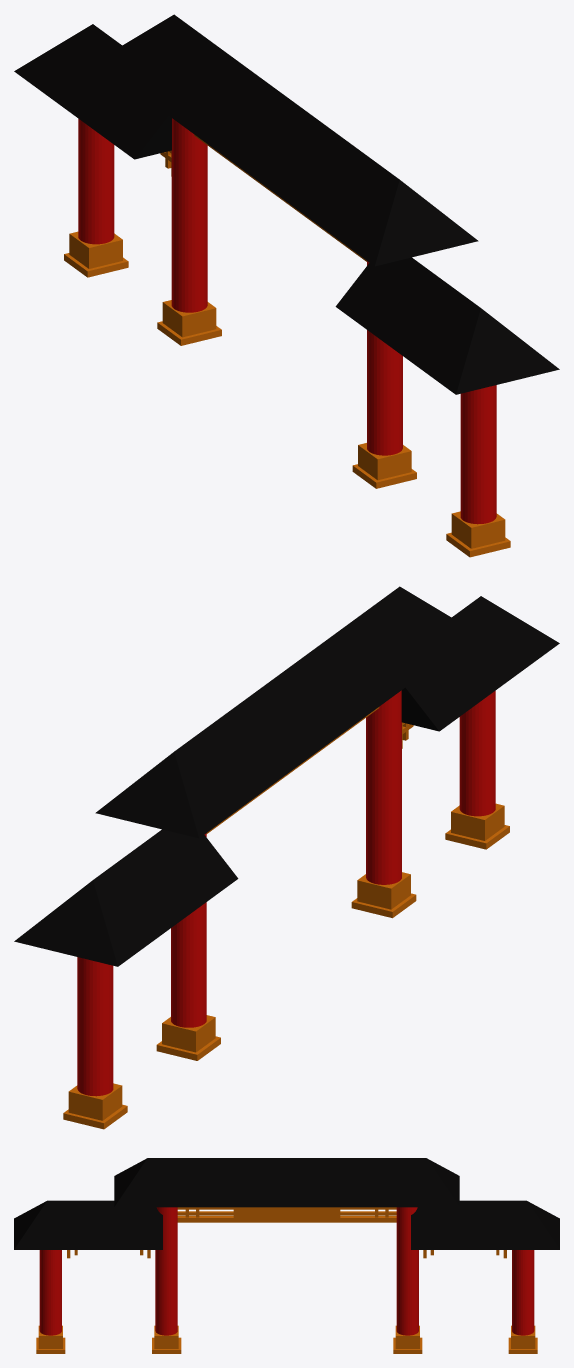
Rendered from temple_colored.obj.
The picture shows the model from 3 angles, top to bottom: view 1: azimuth 30°, elevation 25°; view 2: azimuth 150°, elevation 25°; view 3: azimuth 270°, elevation 25°; orthographic projection. The views are drawn at different scales.
Visible parts, largest first — view 1: Cube.015, Cube.026, Cube.027, Cylinder.004, Cylinder.002, Cylinder.003, Cylinder.005, Cube.002, Cube.016, Cube.037, Cube.040; view 2: Cube.015, Cube.027, Cube.026, Cylinder.005, Cylinder.003, Cylinder.002, Cylinder.004, Cube.037, Cube.002, Cube.016, Cube.040; view 3: Cube.015, Cube.026, Cube.027, Cylinder.004, Cylinder.005, Cylinder.003, Cylinder.002, Cube.014, Cube.004, Cube.006, Cube.040, Cube.002 (+3 smaller).
Boxes of the visible parts, bbox=[...] form: Cube.015: bbox=[95, 14, 478, 266]; Cube.026: bbox=[335, 257, 559, 394]; Cube.027: bbox=[14, 24, 171, 159]; Cylinder.004: bbox=[171, 118, 207, 312]; Cylinder.002: bbox=[460, 385, 496, 524]; Cylinder.003: bbox=[78, 119, 114, 244]; Cylinder.005: bbox=[367, 261, 402, 455]; Cube.002: bbox=[162, 300, 216, 337]; Cube.016: bbox=[451, 511, 505, 548]; Cube.037: bbox=[69, 231, 122, 268]; Cube.040: bbox=[358, 443, 411, 480]; Cube.015: bbox=[95, 586, 478, 838]; Cube.027: bbox=[14, 829, 238, 966]; Cube.026: bbox=[401, 596, 559, 731]; Cylinder.005: bbox=[366, 690, 401, 884]; Cylinder.003: bbox=[77, 957, 113, 1096]; Cylinder.002: bbox=[459, 691, 495, 816]; Cylinder.004: bbox=[171, 833, 206, 1027]; Cube.037: bbox=[68, 1083, 122, 1120]; Cube.002: bbox=[162, 1015, 215, 1052]; Cube.016: bbox=[451, 803, 504, 840]; Cube.040: bbox=[357, 872, 410, 909]; Cube.015: bbox=[114, 1158, 459, 1207]; Cube.026: bbox=[14, 1200, 162, 1249]; Cube.027: bbox=[411, 1200, 559, 1249]; Cylinder.004: bbox=[396, 1207, 418, 1335]; Cylinder.005: bbox=[155, 1207, 177, 1335]; Cylinder.003: bbox=[512, 1250, 534, 1335]; Cylinder.002: bbox=[39, 1250, 61, 1335]; Cube.014: bbox=[233, 1207, 340, 1221]; Cube.004: bbox=[177, 1216, 396, 1222]; Cube.006: bbox=[177, 1211, 396, 1215]; Cube.040: bbox=[154, 1325, 178, 1348]; Cube.002: bbox=[395, 1325, 419, 1348].
Size of the model in its own units: 9.15 by 25.81 by 67.34.
